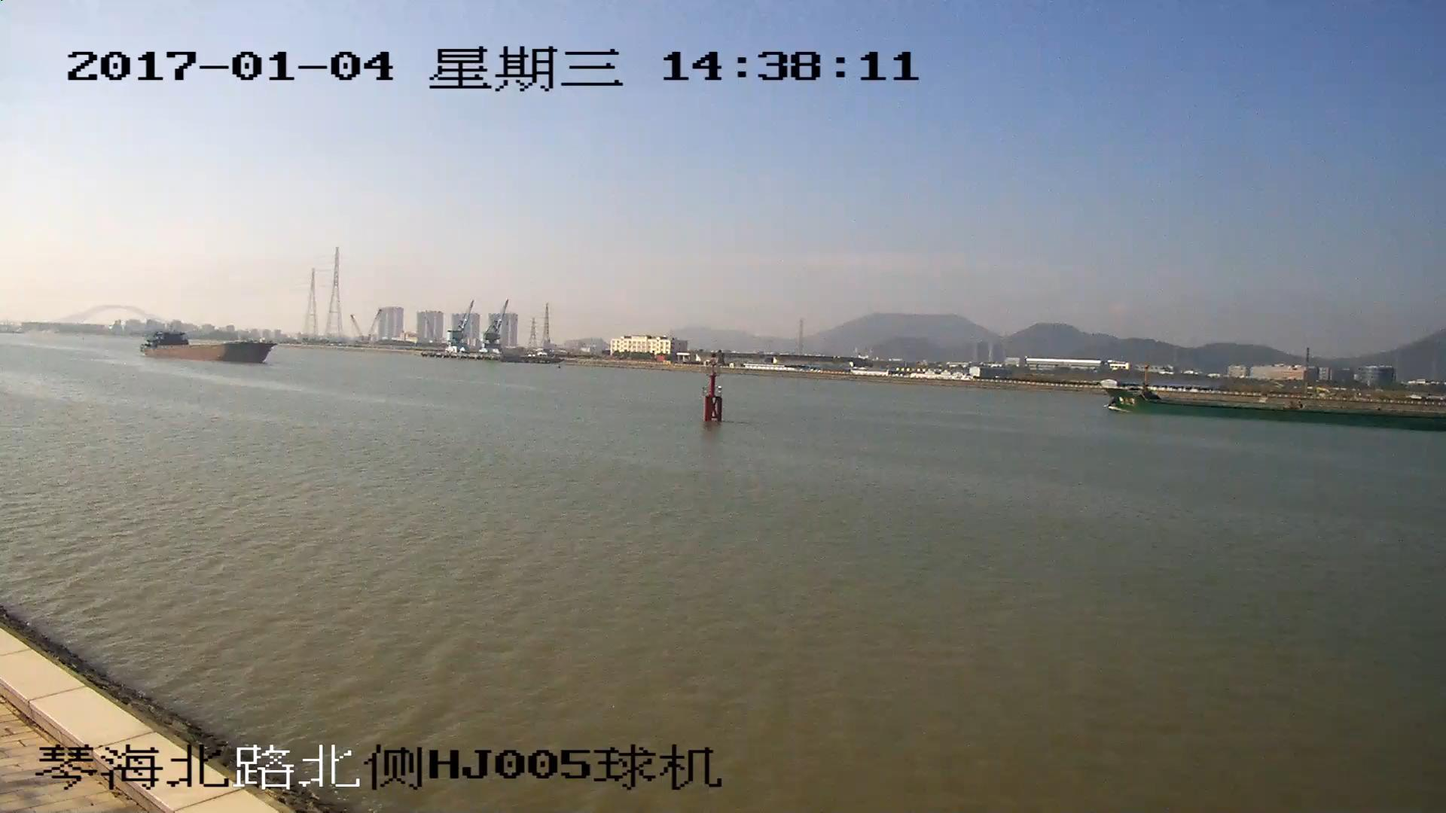bulk cargo carrier: (142, 330, 267, 363)
general cargo ship: (1099, 379, 1445, 433)
